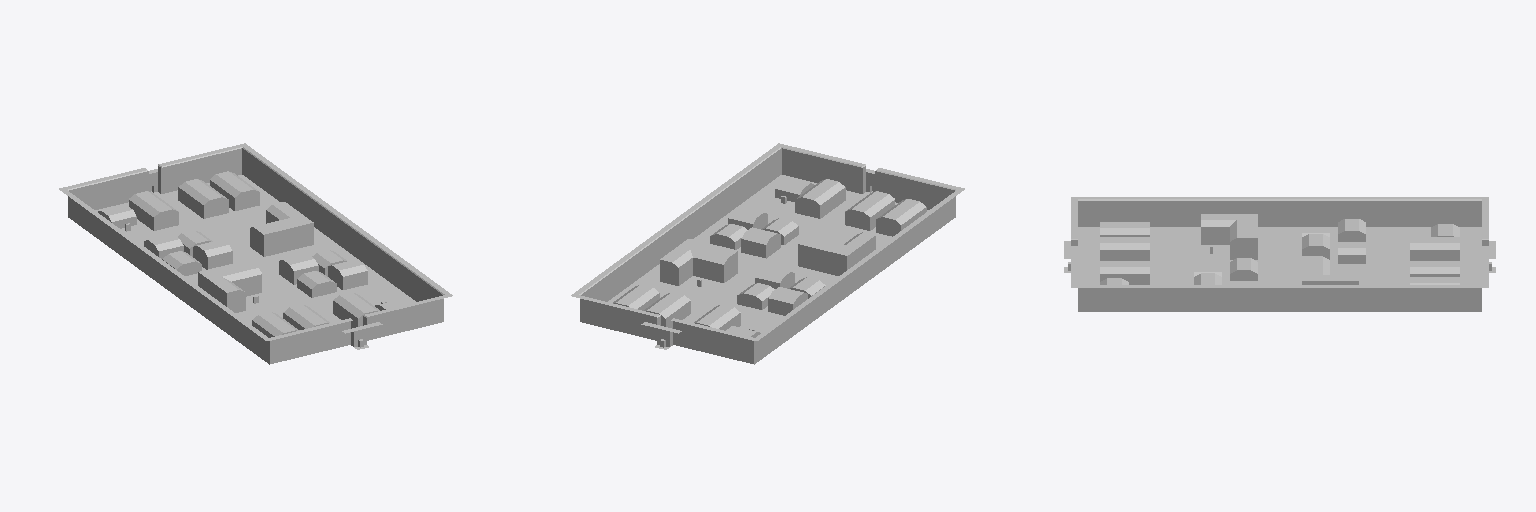
The model's file is map.obj.
The picture shows the model from 3 angles: view 1: azimuth 30°, elevation 25°; view 2: azimuth 150°, elevation 25°; view 3: azimuth 270°, elevation 25°; orthographic projection.
Visible parts, largest first — view 1: Town_Plane.001; view 2: Town_Plane.001; view 3: Town_Plane.001.
Boxes of the visible parts, <box> form: Town_Plane.001: <box>59,143,452,364</box>; Town_Plane.001: <box>571,143,964,364</box>; Town_Plane.001: <box>1064,197,1495,311</box>.
Bounding box in the file's own units: 180 × 25 × 360.